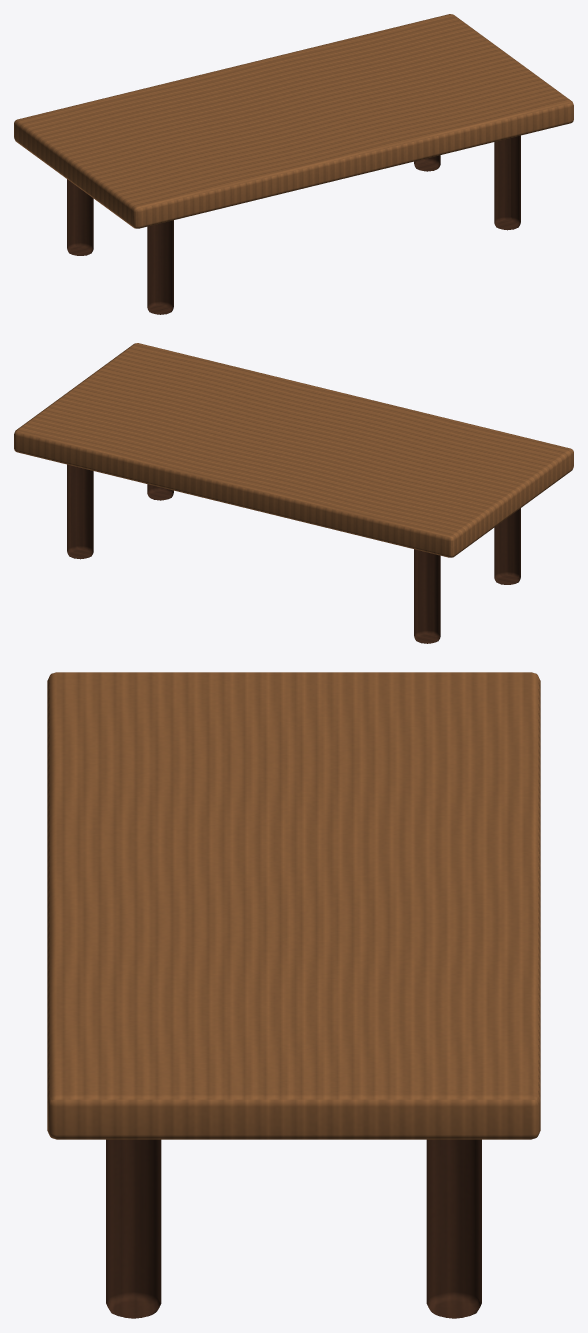
Rendered from low_table.glb.
3 views of the same model, one above another, from view 1: azimuth 30°, elevation 25°; view 2: azimuth 150°, elevation 25°; view 3: azimuth 270°, elevation 25° (orthographic). The views are drawn at different scales.
Parts seen in each view (by area): view 1: V2_low_table_oak.005, V2_low_table_walnut.005; view 2: V2_low_table_oak.005, V2_low_table_walnut.005; view 3: V2_low_table_oak.005, V2_low_table_walnut.005.
Part boxes in pixels (x1,y1,x2,y2): V2_low_table_oak.005: [14, 14, 573, 228]; V2_low_table_walnut.005: [67, 135, 520, 314]; V2_low_table_oak.005: [14, 343, 573, 557]; V2_low_table_walnut.005: [67, 464, 520, 643]; V2_low_table_oak.005: [47, 672, 540, 1139]; V2_low_table_walnut.005: [106, 1139, 481, 1318].
Size of the model in its own units: 1.65 by 0.46 by 0.8.
2 materials, 2 textured.
